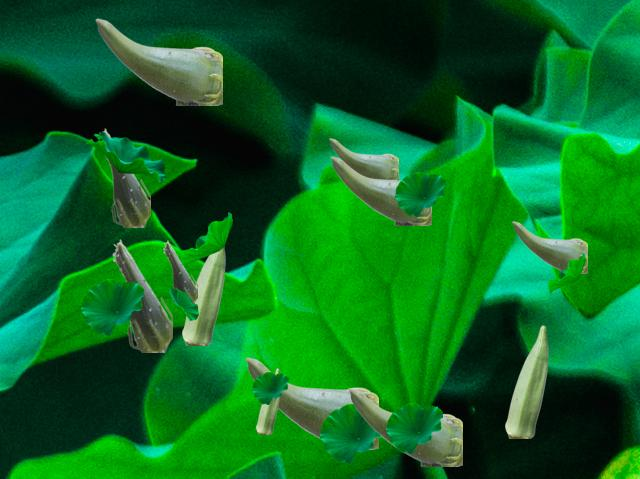okra: (245, 357, 377, 448), (95, 18, 221, 104), (348, 388, 461, 465), (330, 156, 430, 224), (112, 239, 171, 351), (98, 128, 149, 226), (505, 325, 547, 437), (182, 247, 224, 344), (512, 221, 586, 272), (329, 138, 397, 179), (163, 240, 196, 303), (256, 368, 279, 433)
